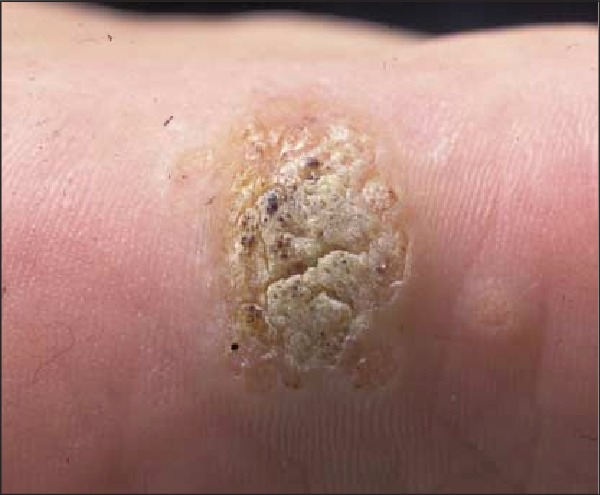Warts: (186, 67, 441, 426)
